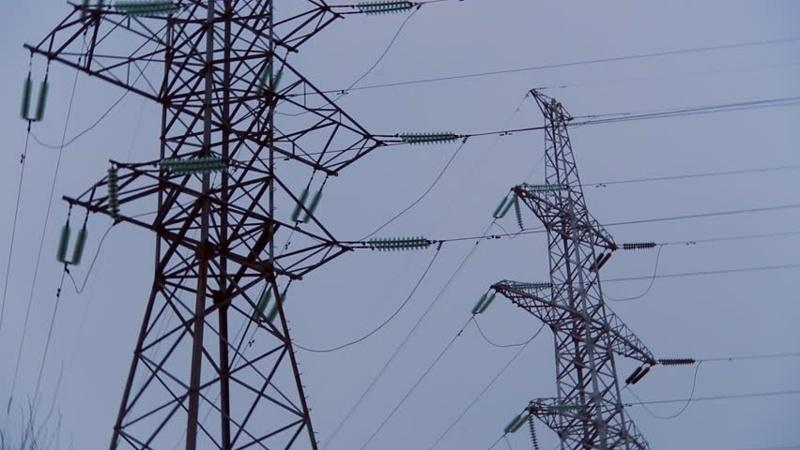power_tower: (18, 2, 459, 449), (471, 84, 695, 448)
